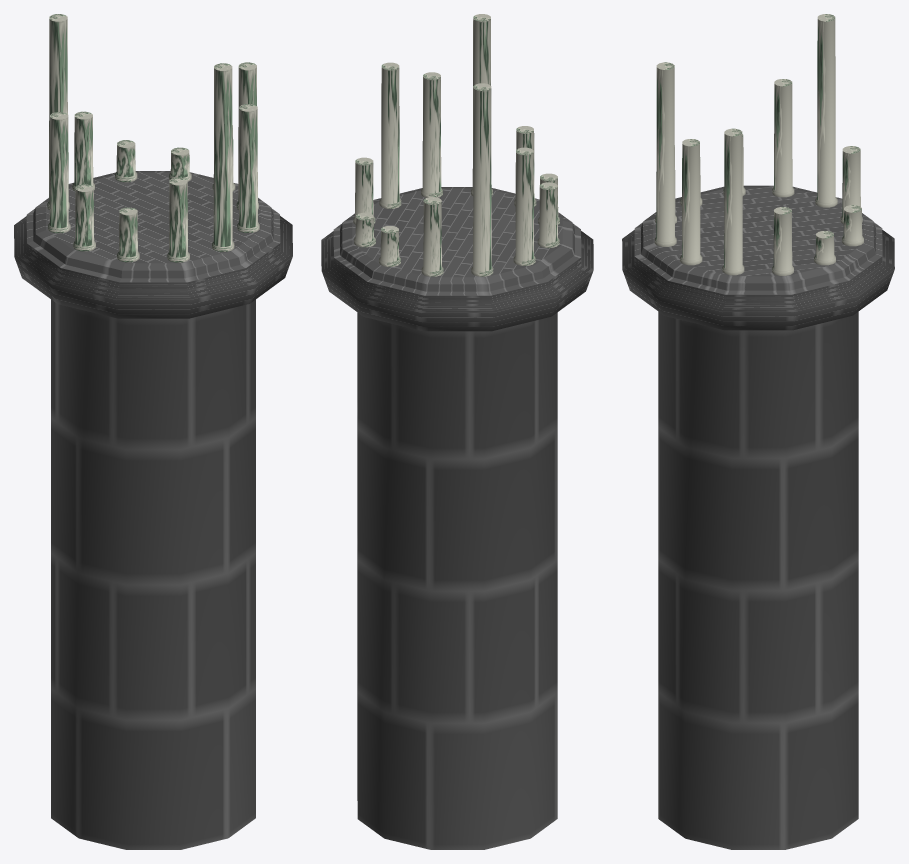
File: CentralPillarandColumnsTextured.FBX
3 views of the same model, side by side, from view 1: azimuth 30°, elevation 25°; view 2: azimuth 150°, elevation 25°; view 3: azimuth 270°, elevation 25° (orthographic). The views are drawn at different scales.
Parts seen in each view (by area): view 1: Cylinder001, Cylinder010, Cylinder009, Cylinder002, Cylinder003, Cylinder011, Cylinder004, Cylinder013, Cylinder012, Cylinder008, Cylinder005, Cylinder006; view 2: Cylinder001, Cylinder003, Cylinder008, Cylinder009, Cylinder002, Cylinder004, Cylinder010, Cylinder013, Cylinder007, Cylinder005, Cylinder006, Cylinder011; view 3: Cylinder001, Cylinder003, Cylinder010, Cylinder008, Cylinder009, Cylinder002, Cylinder007, Cylinder004, Cylinder005, Cylinder006.
Part boxes in pixels (x1,y1,x2,y2): Cylinder001: (14, 171, 292, 849); Cylinder010: (212, 63, 234, 251); Cylinder009: (237, 104, 259, 232); Cylinder002: (48, 112, 70, 233); Cylinder003: (47, 14, 69, 209); Cylinder011: (167, 177, 189, 262); Cylinder004: (72, 111, 94, 191); Cylinder013: (73, 184, 95, 251); Cylinder012: (117, 207, 139, 262); Cylinder008: (236, 62, 258, 209); Cylinder005: (115, 140, 137, 182); Cylinder006: (169, 147, 191, 181); Cylinder001: (321, 187, 593, 849); Cylinder003: (471, 83, 493, 276); Cylinder008: (379, 62, 401, 208); Cylinder009: (421, 72, 442, 197); Cylinder002: (513, 147, 535, 265); Cylinder004: (421, 197, 443, 276); Cylinder010: (471, 14, 492, 195); Cylinder013: (537, 182, 559, 247); Cylinder007: (353, 157, 375, 224); Cylinder005: (379, 226, 400, 266); Cylinder006: (354, 212, 375, 247); Cylinder011: (514, 126, 536, 206); Cylinder001: (622, 185, 894, 849); Cylinder003: (815, 14, 837, 207); Cylinder010: (654, 62, 676, 246); Cylinder008: (722, 128, 744, 275); Cylinder009: (680, 139, 702, 265); Cylinder002: (772, 79, 794, 197); Cylinder007: (772, 207, 793, 275); Cylinder004: (840, 146, 862, 224); Cylinder005: (842, 205, 863, 246); Cylinder006: (814, 231, 835, 265).
Size of the model in its own units: 322 by 990 by 322.
Materials: 2 (2 with a texture image).
